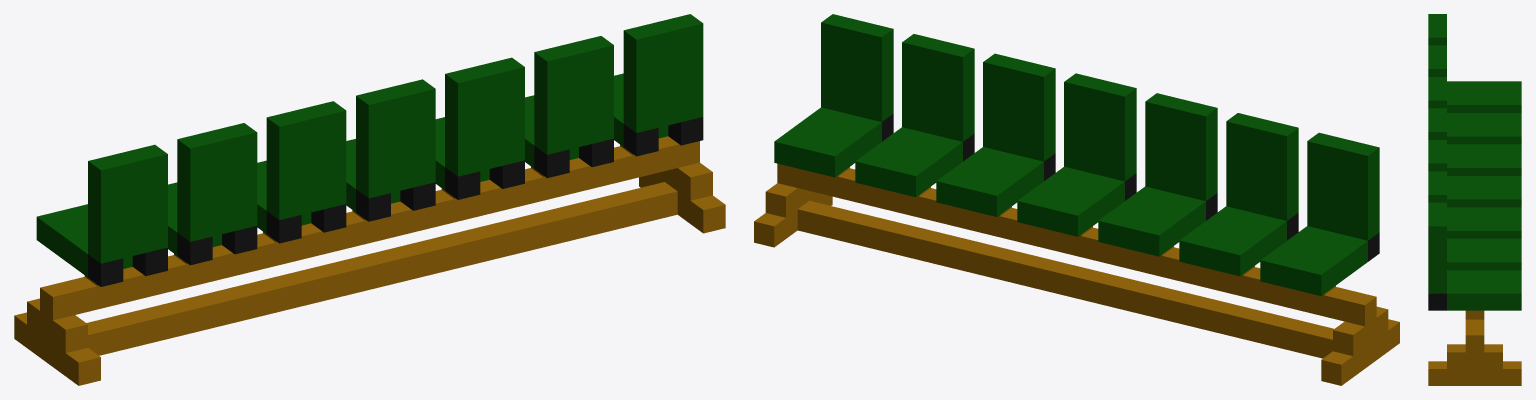
Rendered from Bank furnitures-4.obj.
3 views of the same model, side by side, from view 1: azimuth 30°, elevation 25°; view 2: azimuth 150°, elevation 25°; view 3: azimuth 270°, elevation 25° (orthographic). The views are drawn at different scales.
Parts seen in each view (by area): view 1: Bank furnitures-4; view 2: Bank furnitures-4; view 3: Bank furnitures-4.
Boxes of the visible parts, box(x1,y1,x2,y2) form: Bank furnitures-4: box(14, 14, 725, 385); Bank furnitures-4: box(754, 14, 1399, 385); Bank furnitures-4: box(1428, 14, 1521, 385).
Size of the model in its own units: 29 by 9 by 5.
